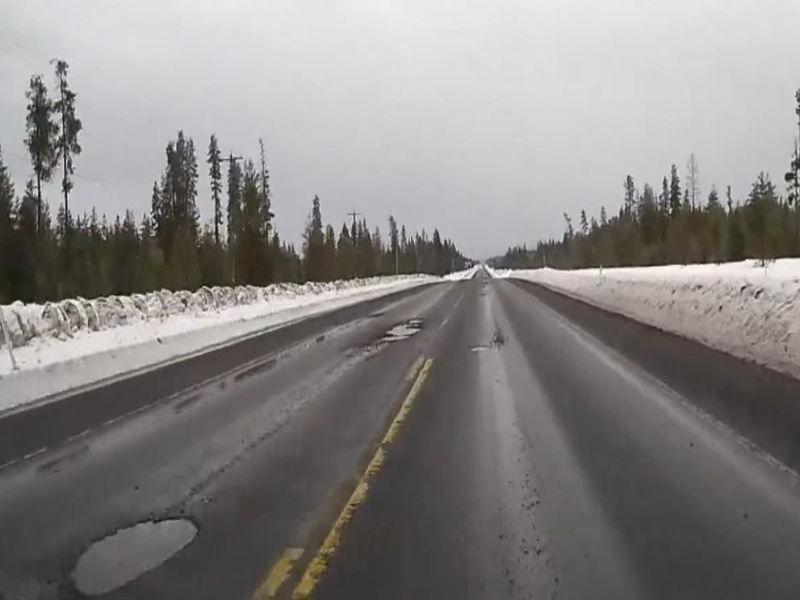pothole: (62, 510, 203, 599), (380, 316, 429, 344)
